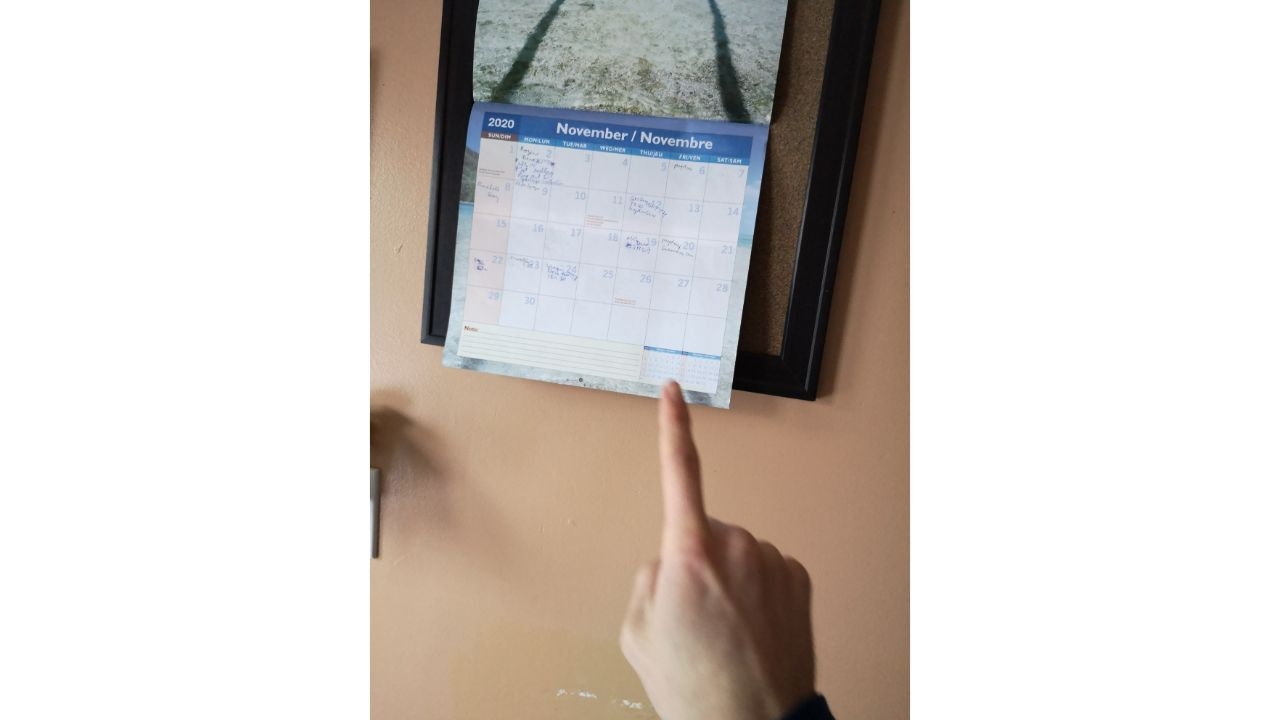finger: (605, 380, 826, 720)
